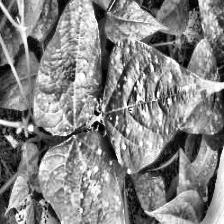Bean Rust: (101, 41, 224, 172), (29, 0, 101, 132), (44, 134, 143, 224), (174, 42, 224, 133), (185, 0, 223, 52)
